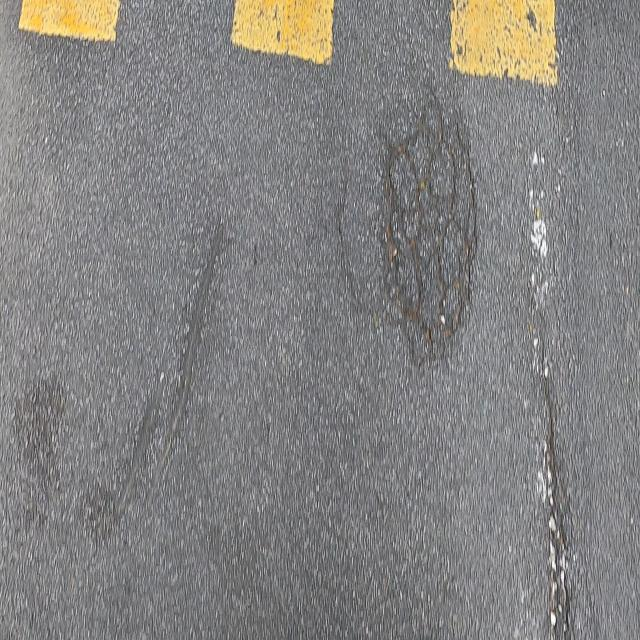Retak-Buaya: (381, 100, 479, 354)
Retak-Memanjang: (135, 226, 222, 521), (538, 356, 571, 640), (114, 371, 167, 523)
